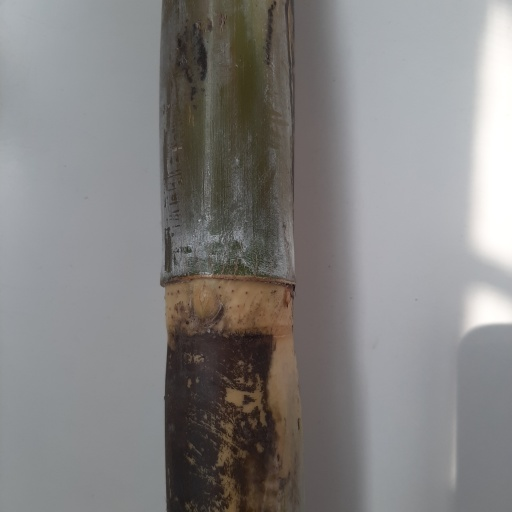Bud: (191, 290, 222, 323)
